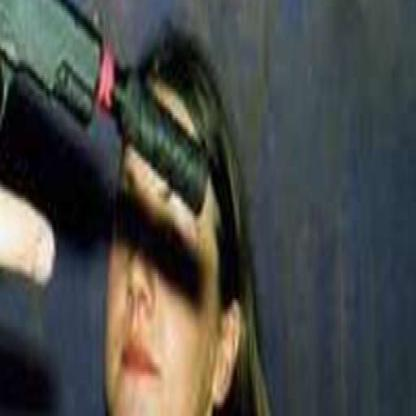gun: (0, 0, 209, 216)
